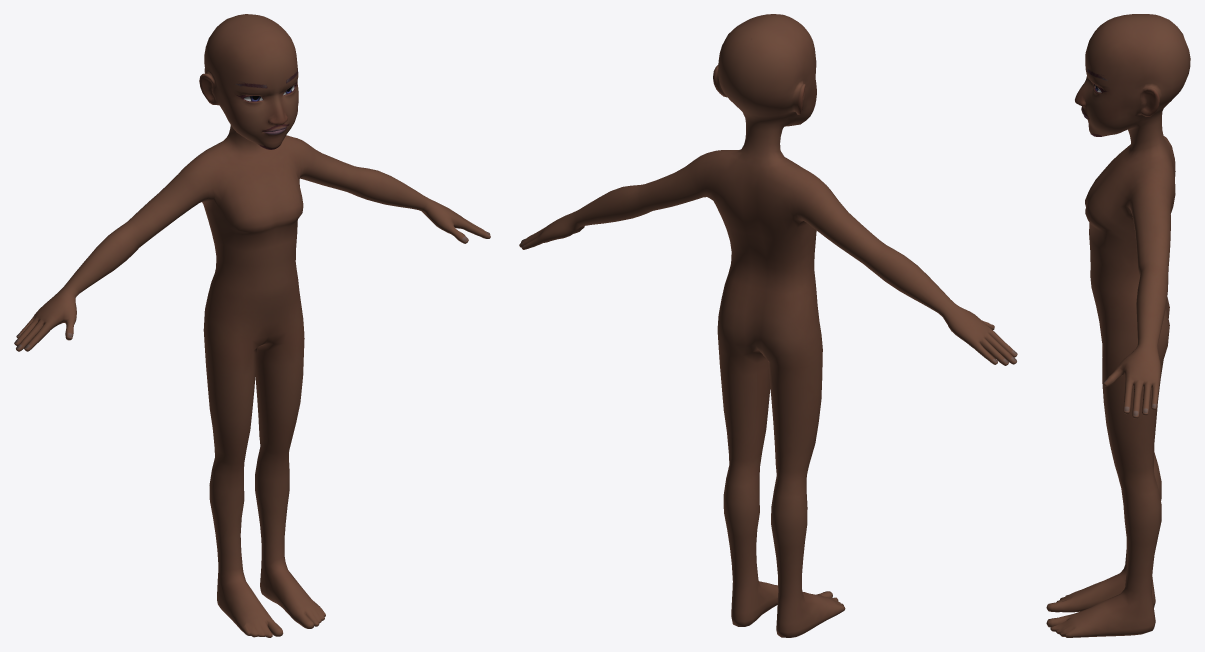
The model's file is frame_0020.glb.
3 views of the same model, side by side, from view 1: azimuth 30°, elevation 25°; view 2: azimuth 150°, elevation 25°; view 3: azimuth 270°, elevation 25° (orthographic). The views are drawn at different scales.
Visible parts, largest first — view 1: frame_0020_head_geo; view 2: frame_0020_head_geo; view 3: frame_0020_head_geo.
Part boxes in pixels (x1,y1,x2,y2): frame_0020_head_geo: [14, 14, 490, 637]; frame_0020_head_geo: [519, 14, 1017, 637]; frame_0020_head_geo: [1046, 14, 1190, 637].
Size of the model in its own units: 1.28 by 1.5 by 0.3253.
Materials: 3 (3 with a texture image).
